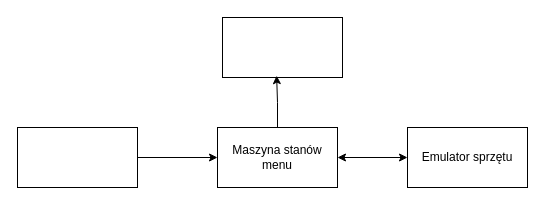
The diagram is 545 pixels wide and 205 high, and some of its shapes have lost their labels. The shapes that lost their labels are listed below. From the top down, each one's box as (x1, y1, x2, y2) in pixels, then its label:
(222, 16, 342, 78): Sterownik urządzeń wyjściowych
(16, 126, 138, 188): Sterownik urządzeń wejściowych
